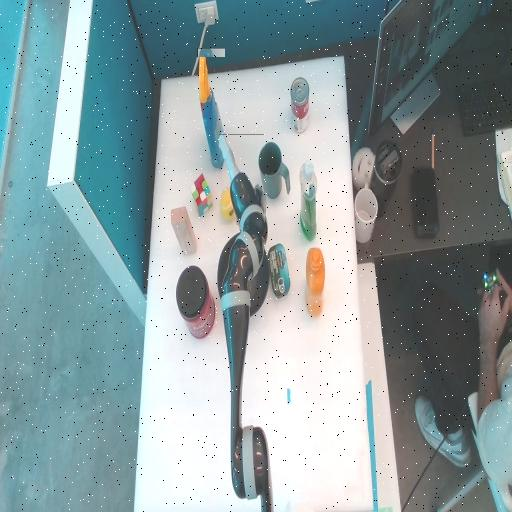bowl: (218, 232, 268, 318)
cleanser: (300, 161, 316, 241)
coffee_can: (175, 284, 214, 322)
jaco: (219, 134, 265, 225)
meat_can: (267, 261, 289, 282)
mug: (259, 143, 289, 199)
mustard_bottle: (306, 249, 324, 317)
rubik: (190, 185, 212, 207)
soup_can: (291, 78, 308, 133)
tennis_ball: (221, 195, 238, 212)
windex: (198, 49, 225, 167)
wooden_block: (171, 208, 195, 254)
workspace: (135, 57, 372, 509)
